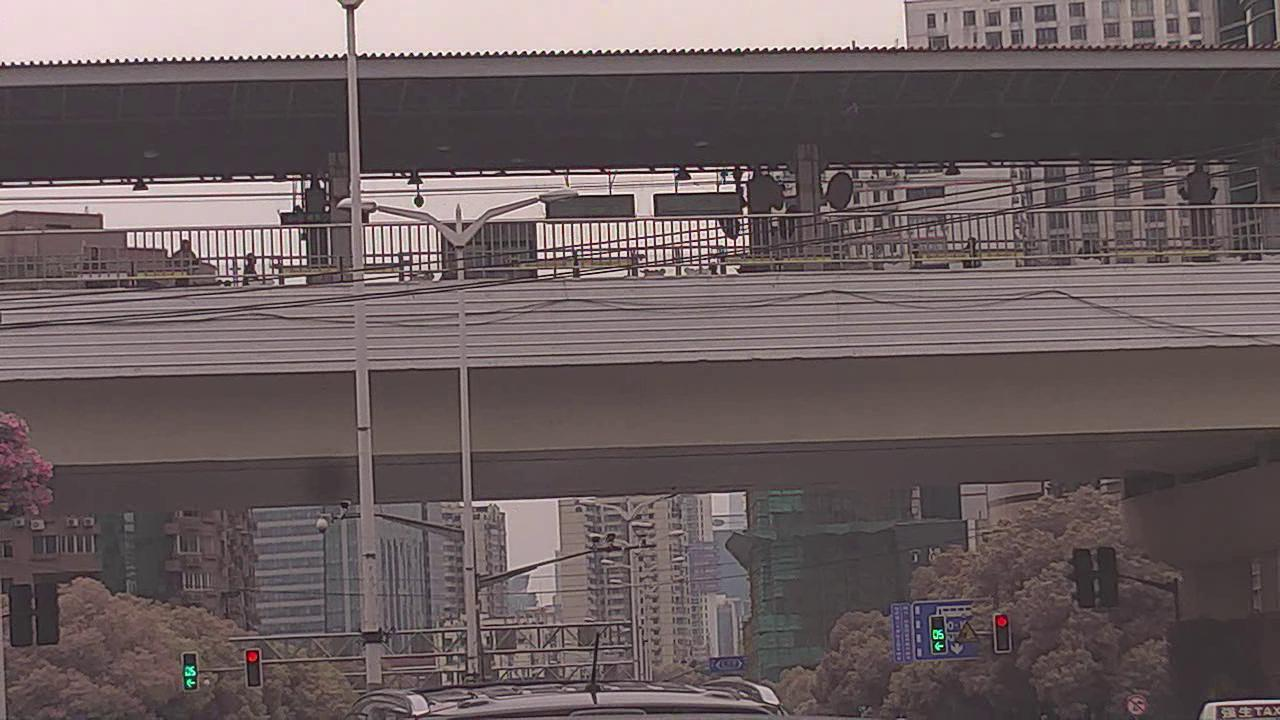traffic_light: (930, 611, 946, 655), (994, 613, 1011, 652), (182, 652, 199, 690), (245, 647, 260, 684)
